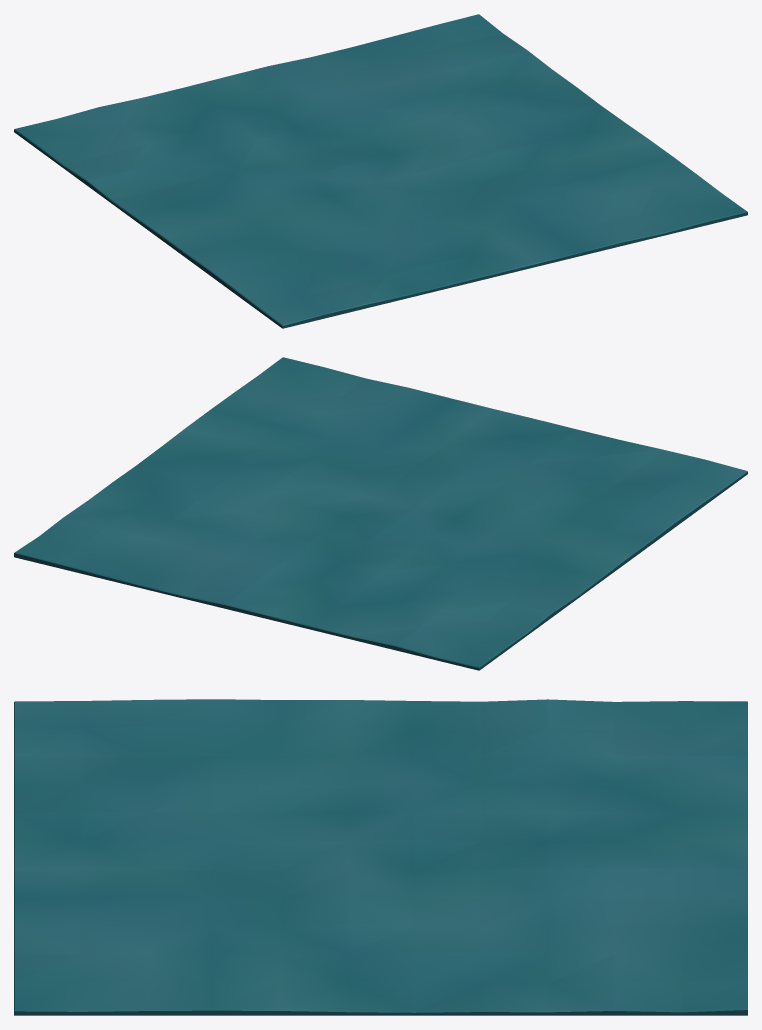
Rendered from 0-20261016-1900-ev057-r11-exterior-lakewater.fbx.
3 renders of one model, top to bottom at view 1: azimuth 30°, elevation 25°; view 2: azimuth 150°, elevation 25°; view 3: azimuth 270°, elevation 25°, orthographic. The views are drawn at different scales.
Visible parts, largest first — view 1: SW_Exterior_LakeWater; view 2: SW_Exterior_LakeWater; view 3: SW_Exterior_LakeWater.
Boxes of the visible parts, x1,y1,x2,y2 form: SW_Exterior_LakeWater: (14,14,747,328); SW_Exterior_LakeWater: (14,357,747,670); SW_Exterior_LakeWater: (14,699,747,1015).
Bounding box in the file's own units: 800 × 8.59 × 800.
